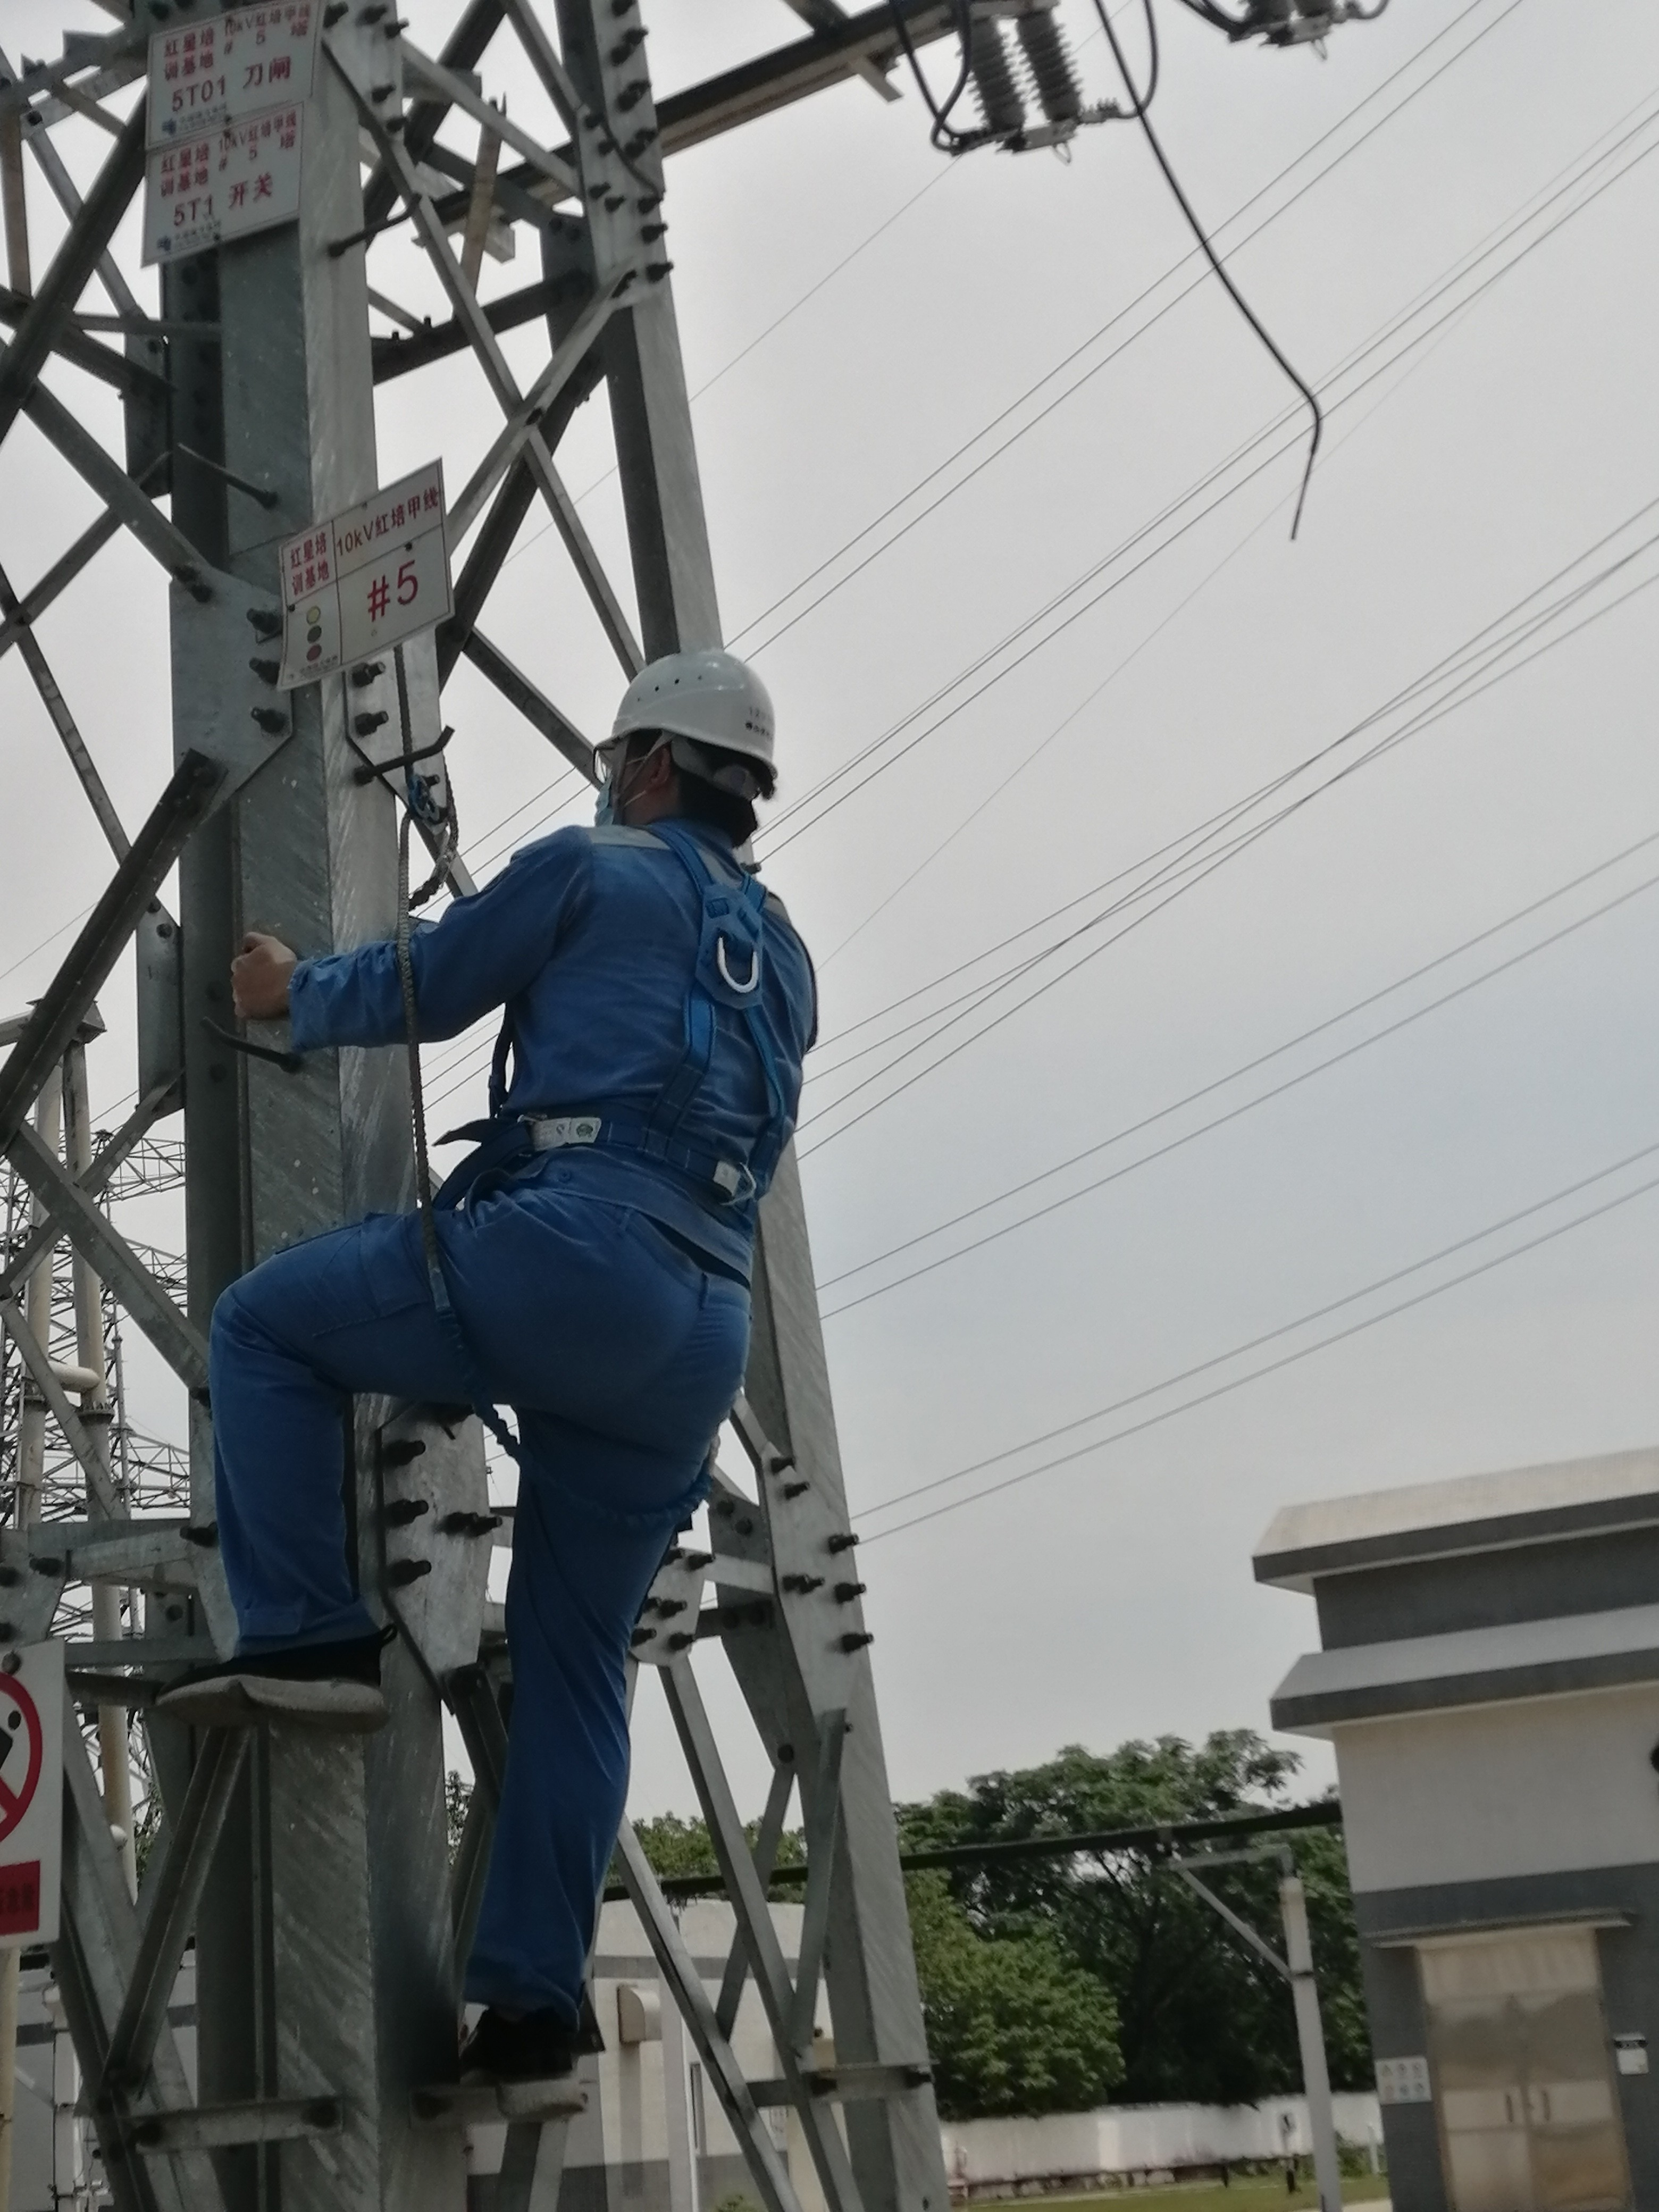downsuit: (206, 1214, 760, 2006)
upsuit: (314, 824, 814, 1176)
